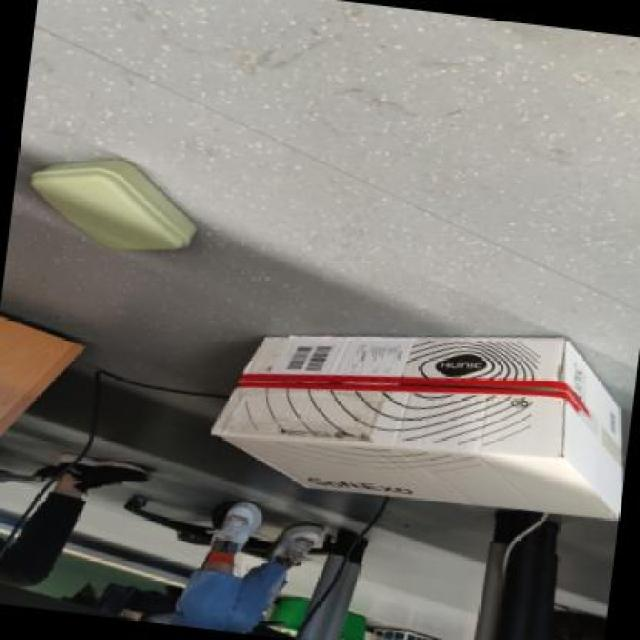box: (187, 286, 640, 533), (5, 122, 229, 287)
